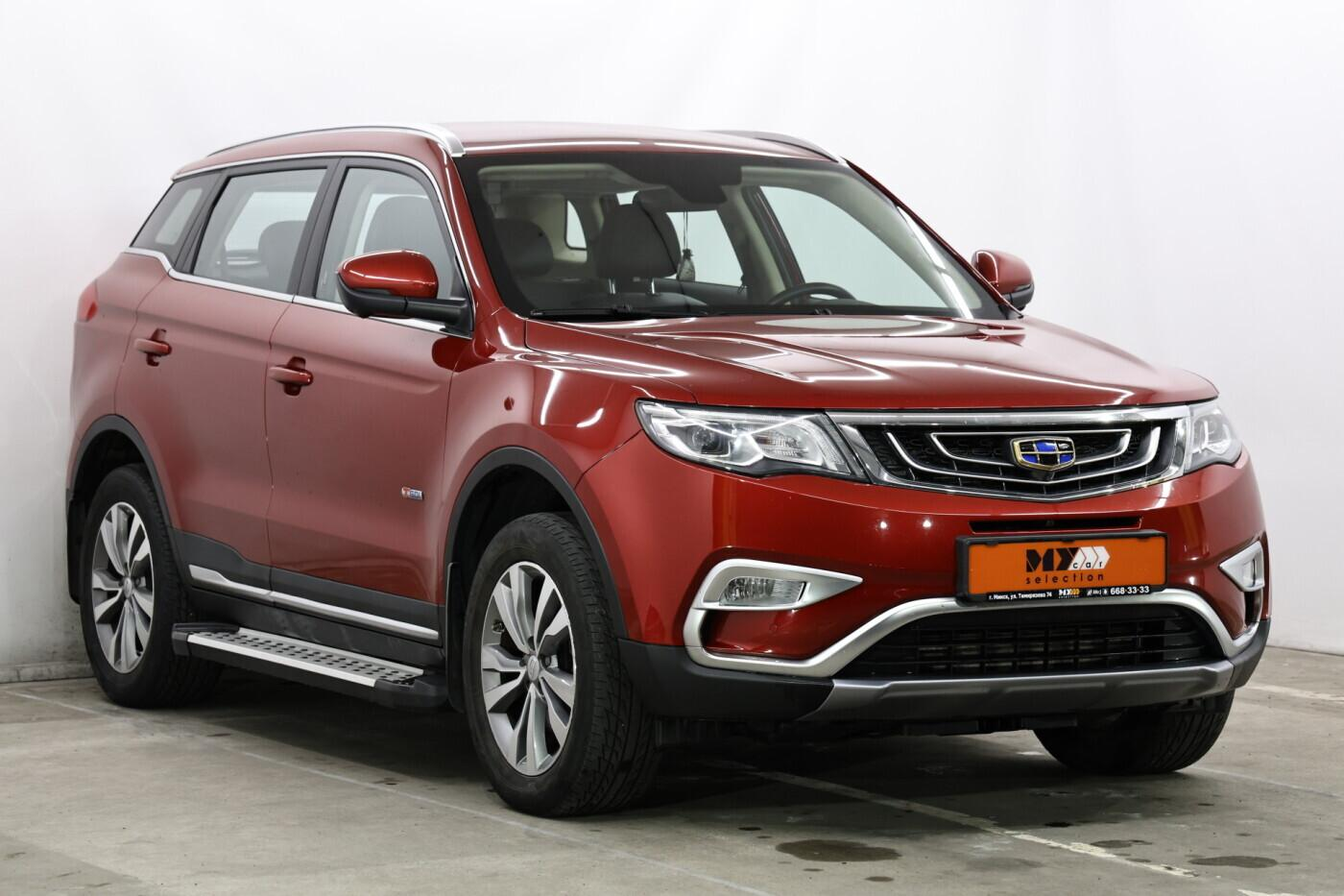Atlas_2016-2023: (53, 118, 1277, 825)
